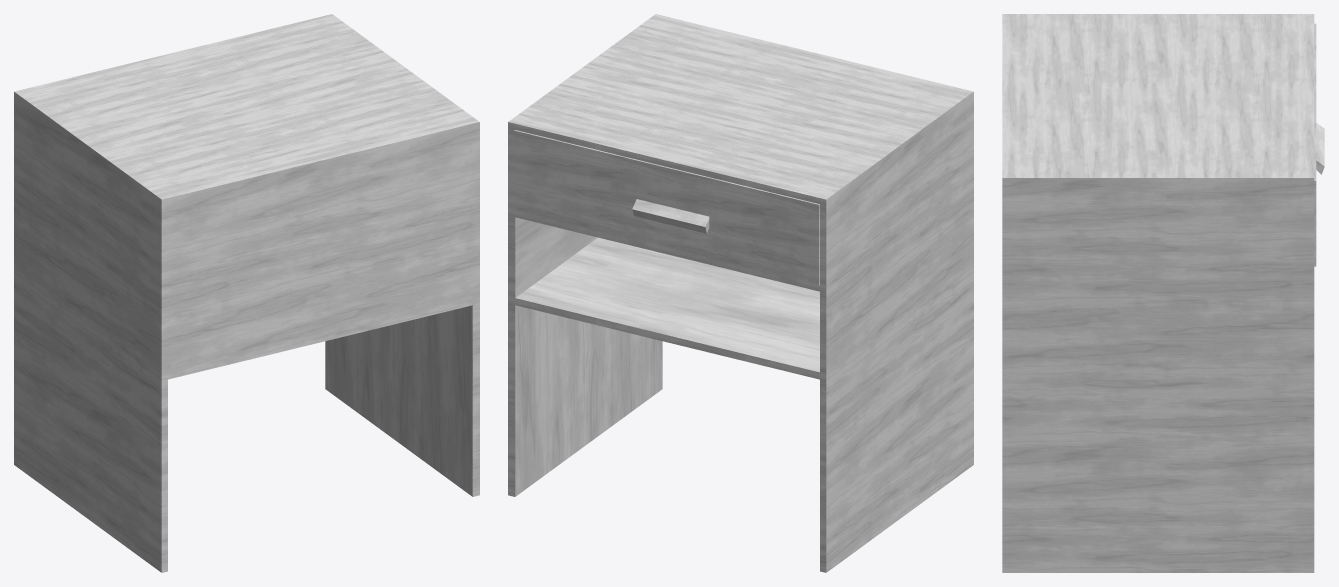
Rendered from BedSideTable.fbx.
3 renders of one model, left to right at view 1: azimuth 30°, elevation 25°; view 2: azimuth 150°, elevation 25°; view 3: azimuth 270°, elevation 25°, orthographic. The views are drawn at different scales.
Visible parts, largest first — view 1: BedSide_OBJ; view 2: BedSide_OBJ; view 3: BedSide_OBJ.
Part boxes in pixels (bbox=[...]): BedSide_OBJ: bbox=[14, 14, 479, 572]; BedSide_OBJ: bbox=[508, 14, 973, 572]; BedSide_OBJ: bbox=[1002, 14, 1324, 572].
Size of the model in its own units: 57.47 by 64.45 by 47.72.
1 material, 1 textured.
